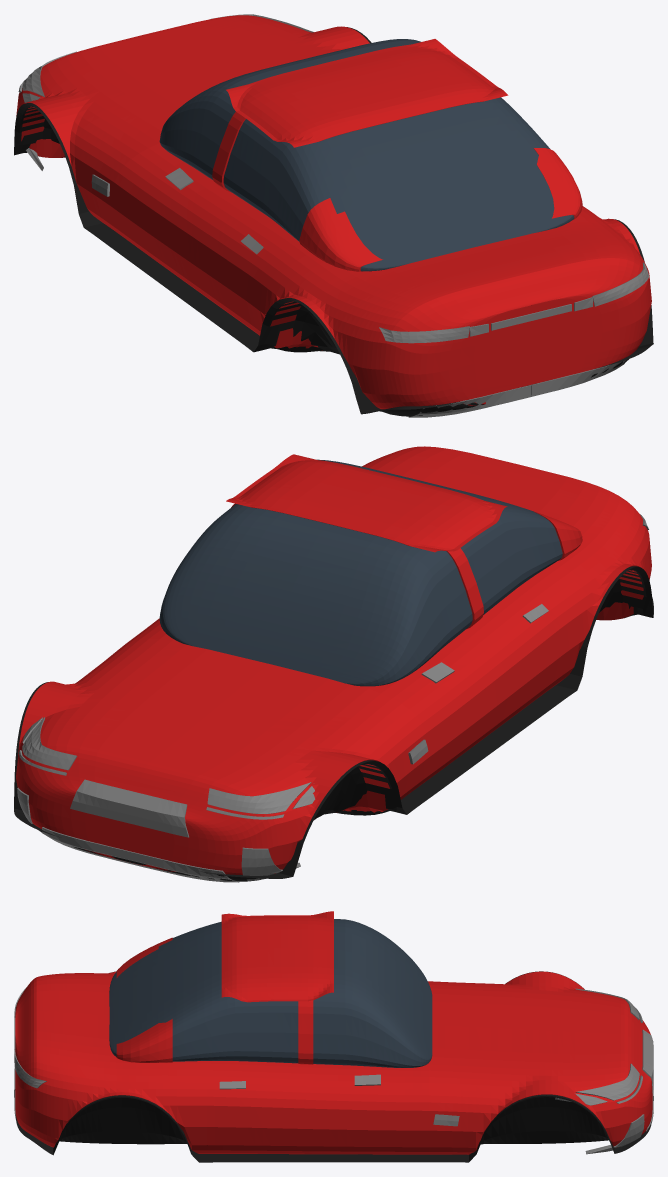
Rendered from Executive.obj.
3 renders of one model, top to bottom at view 1: azimuth 30°, elevation 25°; view 2: azimuth 150°, elevation 25°; view 3: azimuth 270°, elevation 25°, orthographic. The views are drawn at different scales.
Parts seen in each view (by area): view 1: Karosserie, Glas, Dach, Verkleidung, Diffusor, LichtHL, LichtHR, Blende; view 2: Karosserie, Glas, Dach, Verkleidung, Grill, Einlass, LichtVL, LichtVR, EckeinlassL; view 3: Karosserie, Glas, Dach, Verkleidung, LichtVR, EckeinlassR, Grill.
Part boxes in pixels (bbox=[...]): Karosserie: bbox=[16, 15, 651, 409]; Glas: bbox=[159, 39, 574, 271]; Dach: bbox=[212, 39, 582, 271]; Verkleidung: bbox=[14, 27, 653, 416]; Diffusor: bbox=[408, 360, 626, 417]; LichtHL: bbox=[379, 326, 469, 343]; LichtHR: bbox=[592, 262, 649, 306]; Blende: bbox=[491, 304, 571, 330]; Karosserie: bbox=[16, 446, 651, 874]; Glas: bbox=[159, 459, 562, 686]; Dach: bbox=[226, 454, 582, 628]; Verkleidung: bbox=[14, 566, 653, 881]; Grill: bbox=[70, 779, 188, 837]; Einlass: bbox=[42, 827, 239, 882]; LichtVL: bbox=[207, 782, 311, 814]; LichtVR: bbox=[22, 717, 77, 770]; EckeinlassL: bbox=[241, 847, 300, 881]; Karosserie: bbox=[15, 971, 652, 1154]; Glas: bbox=[109, 919, 432, 1067]; Dach: bbox=[116, 911, 333, 1064]; Verkleidung: bbox=[14, 971, 653, 1162]; LichtVR: bbox=[575, 1063, 639, 1100]; EckeinlassR: bbox=[585, 1114, 644, 1154]; Grill: bbox=[642, 1029, 653, 1093].
Bounding box in the file's own units: 7.99 × 4.87 × 17.07.
